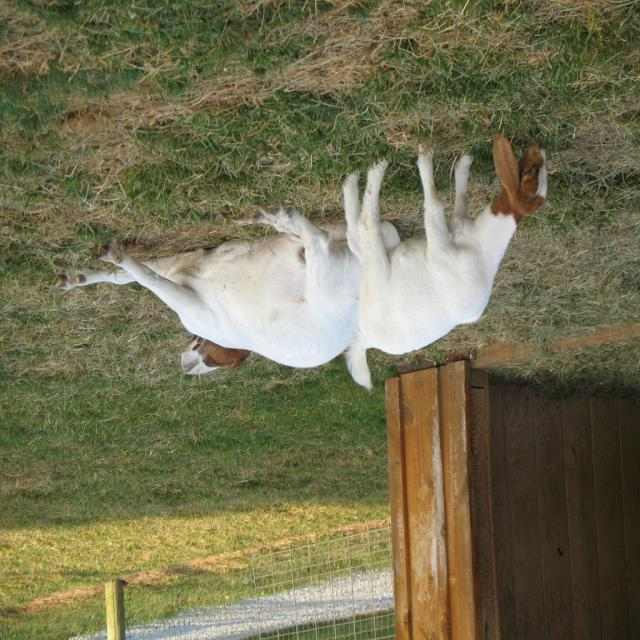Goat: (52, 202, 388, 381), (342, 133, 549, 392)
